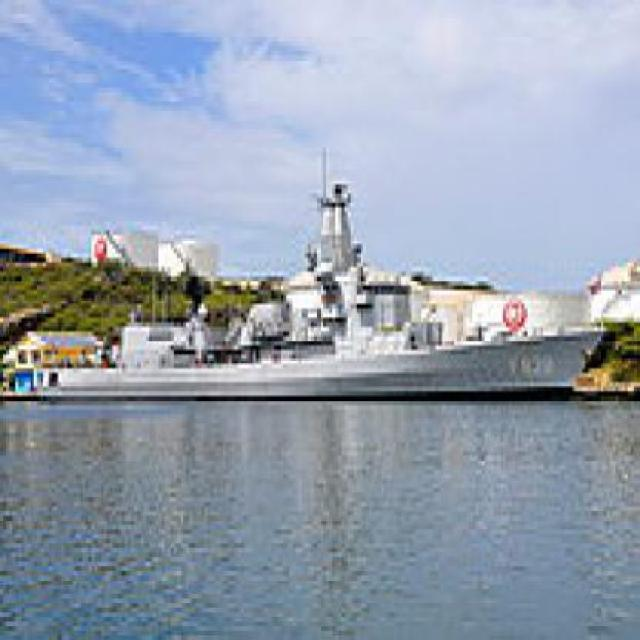warship2: (1, 130, 601, 407)
